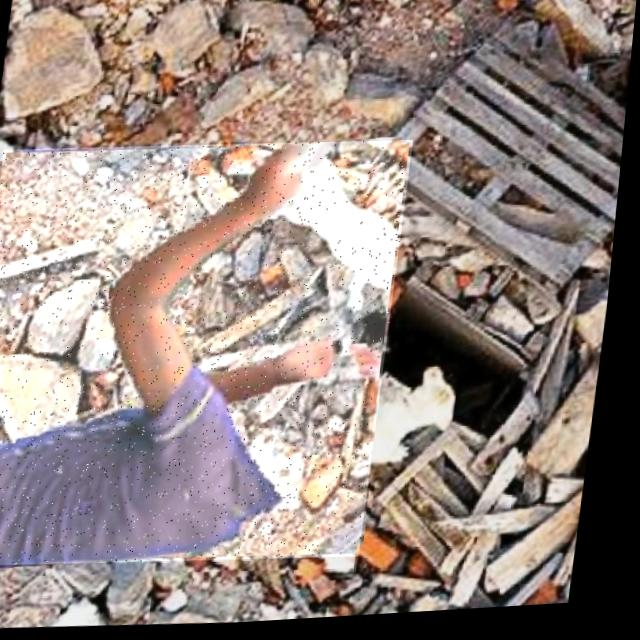Person in Rubble: (0, 131, 416, 580)
